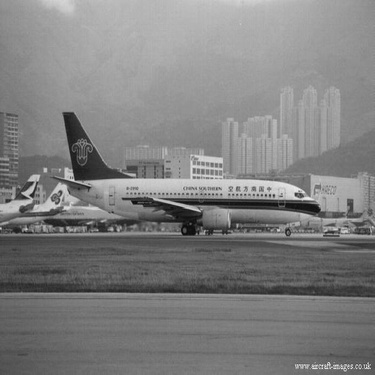airplane: (33, 101, 333, 249), (8, 170, 157, 228), (1, 174, 76, 237), (1, 188, 42, 231)
